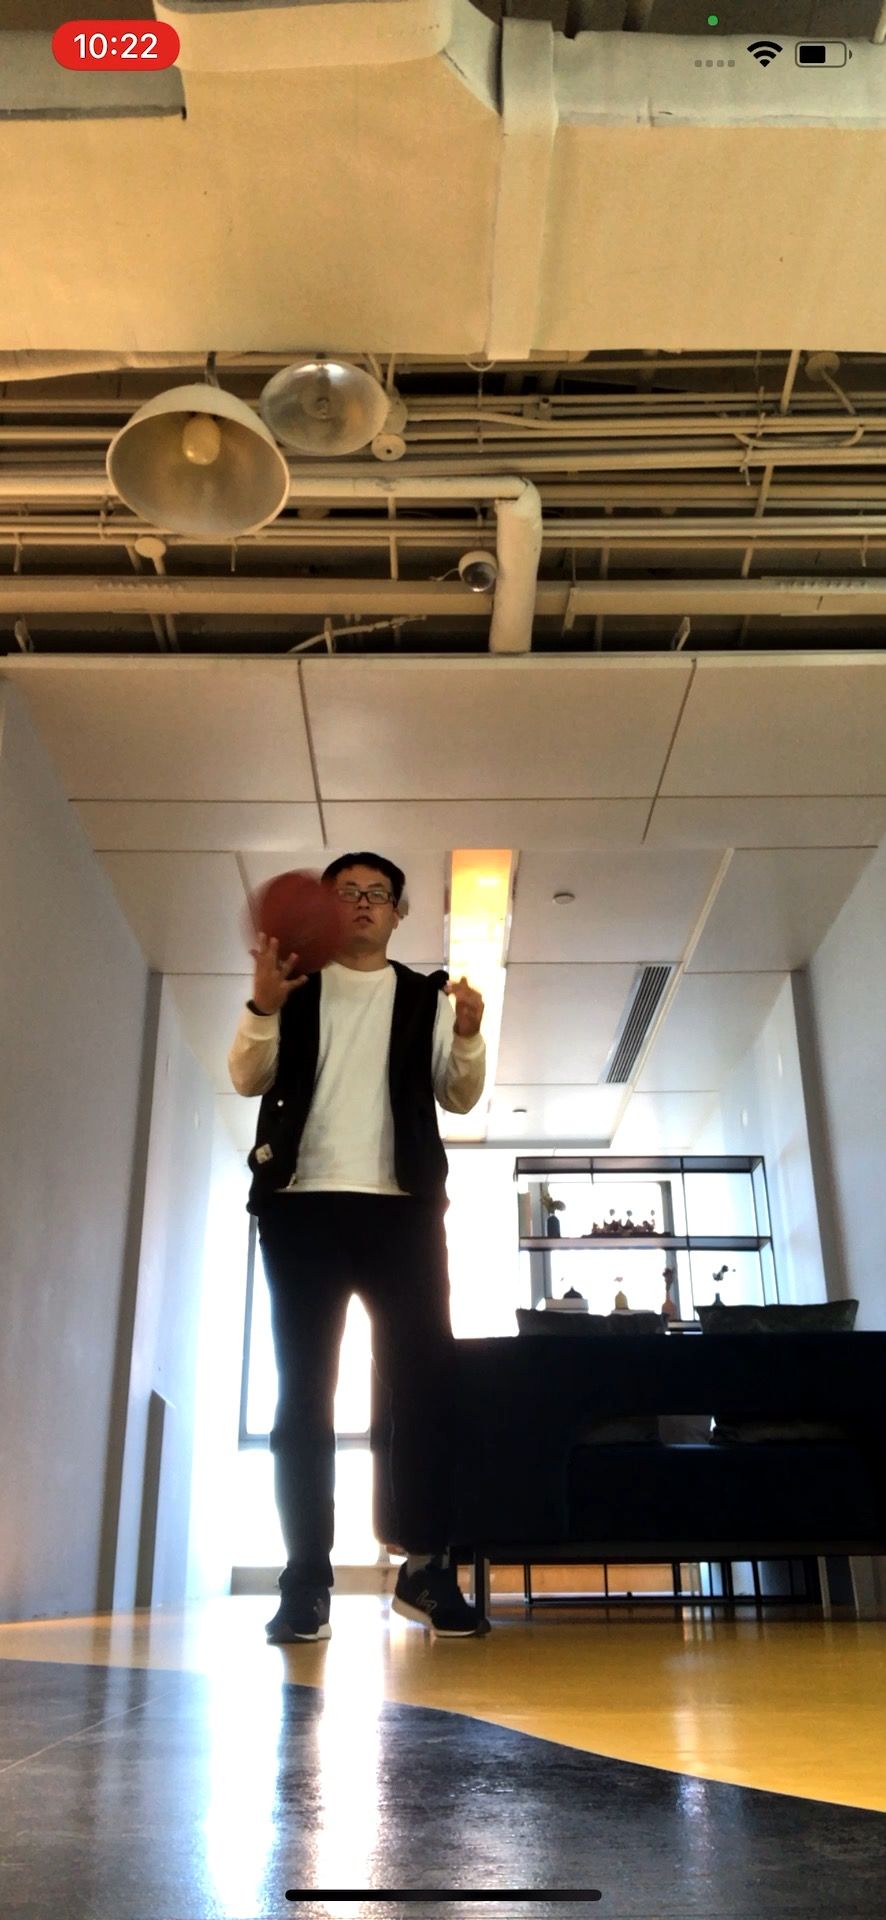ball: (255, 868, 351, 973)
